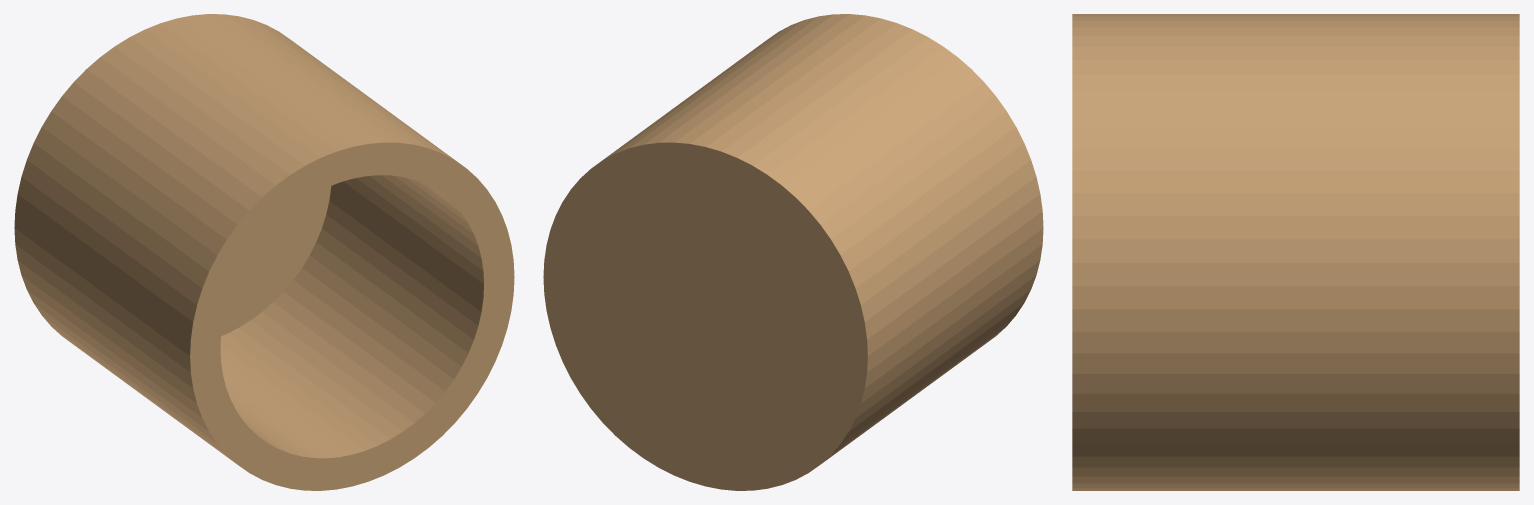
File: debug_cup.glb
3 views of the same model, side by side, from view 1: azimuth 30°, elevation 25°; view 2: azimuth 150°, elevation 25°; view 3: azimuth 270°, elevation 25° (orthographic). The views are drawn at different scales.
Parts seen in each view (by area): view 1: world; view 2: world; view 3: world.
Part boxes in pixels (x1,y1,x2,y2): world: (14,14,514,490); world: (543,14,1043,490); world: (1072,14,1519,490).
Bounding box in the file's own units: 0.2 × 0.2 × 0.1875.
